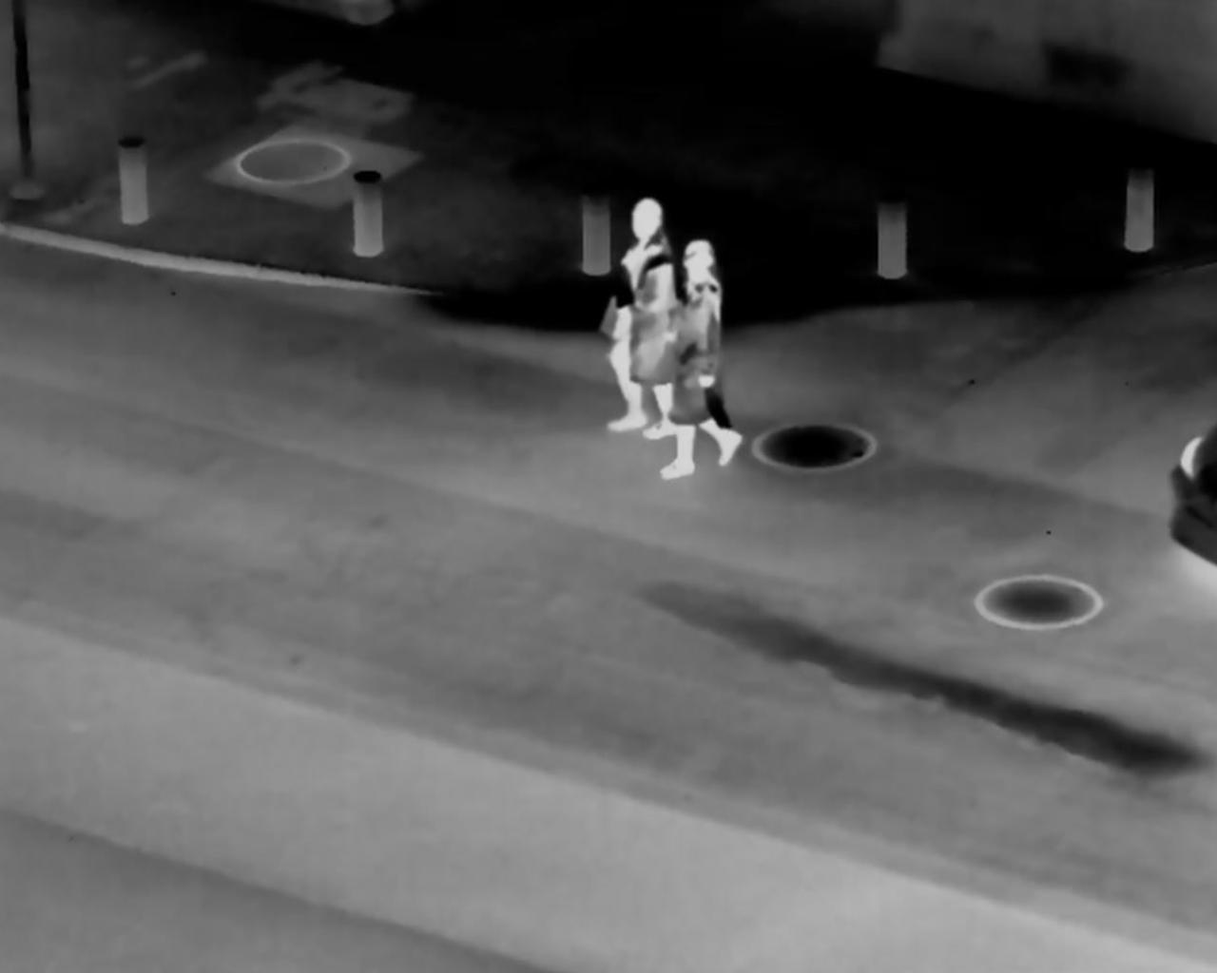person: (584, 181, 680, 433), (659, 220, 740, 486)
